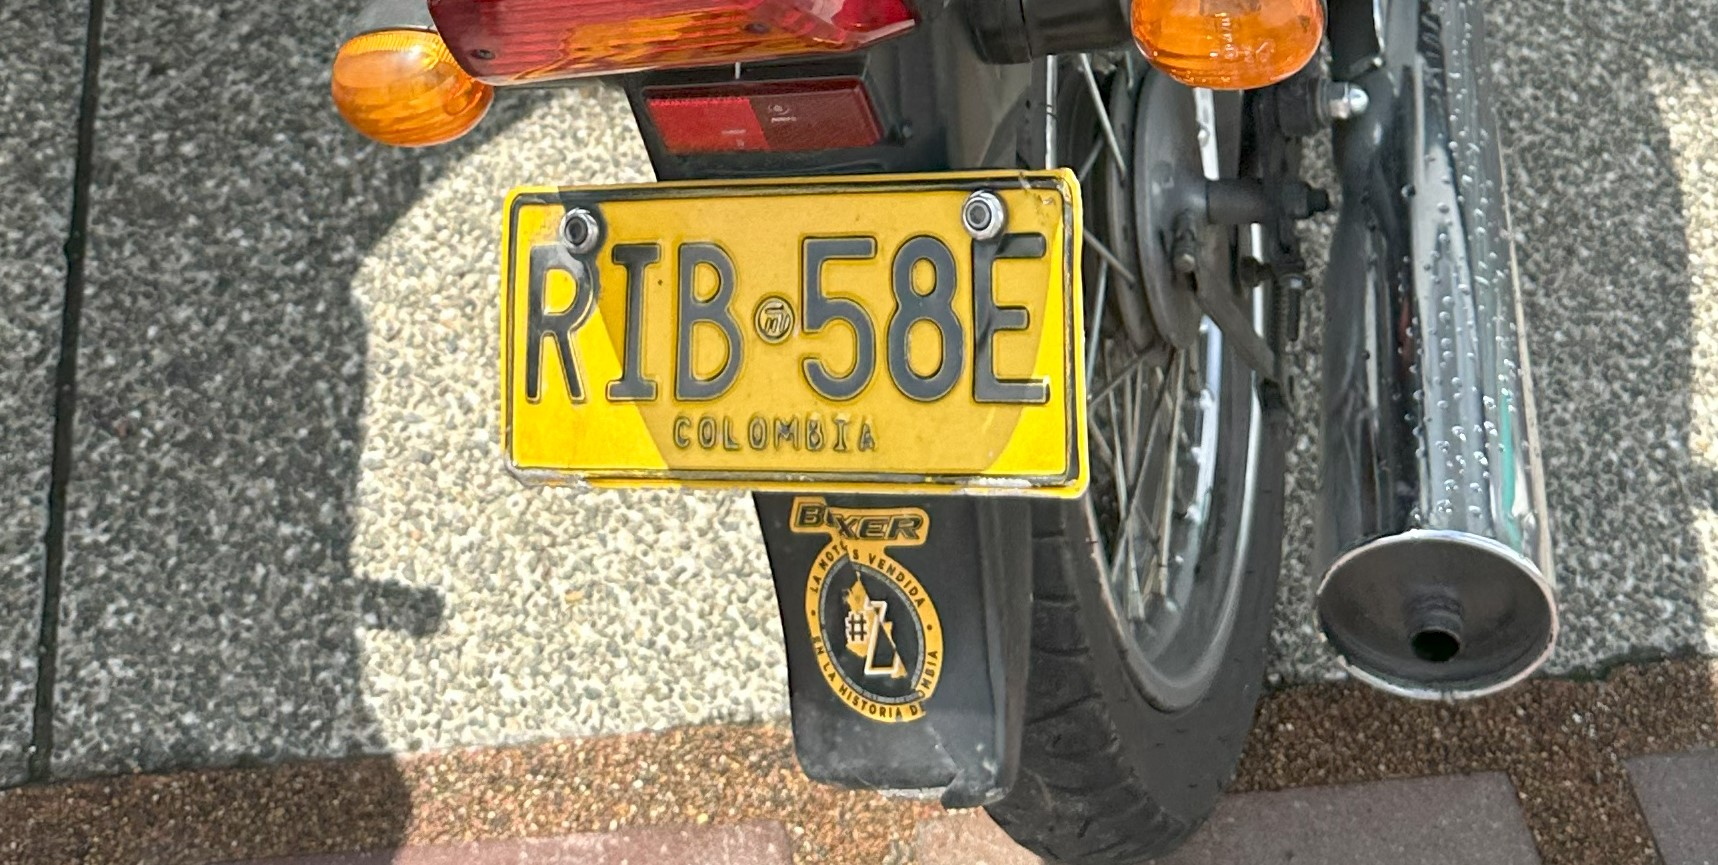number plate: (502, 170, 1086, 496), (755, 493, 1031, 806)
